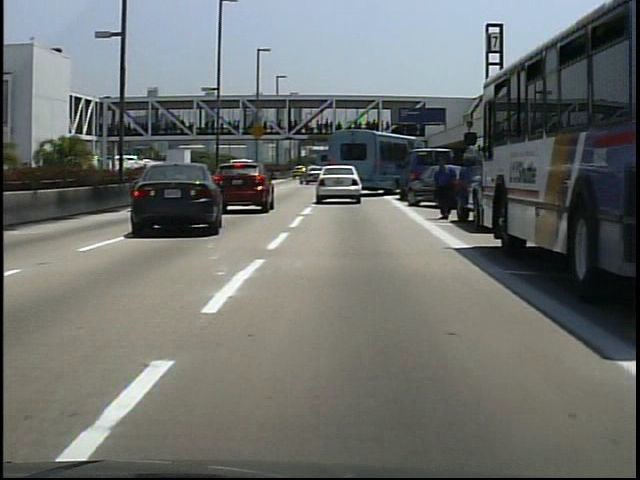person: (430, 158, 458, 225)
